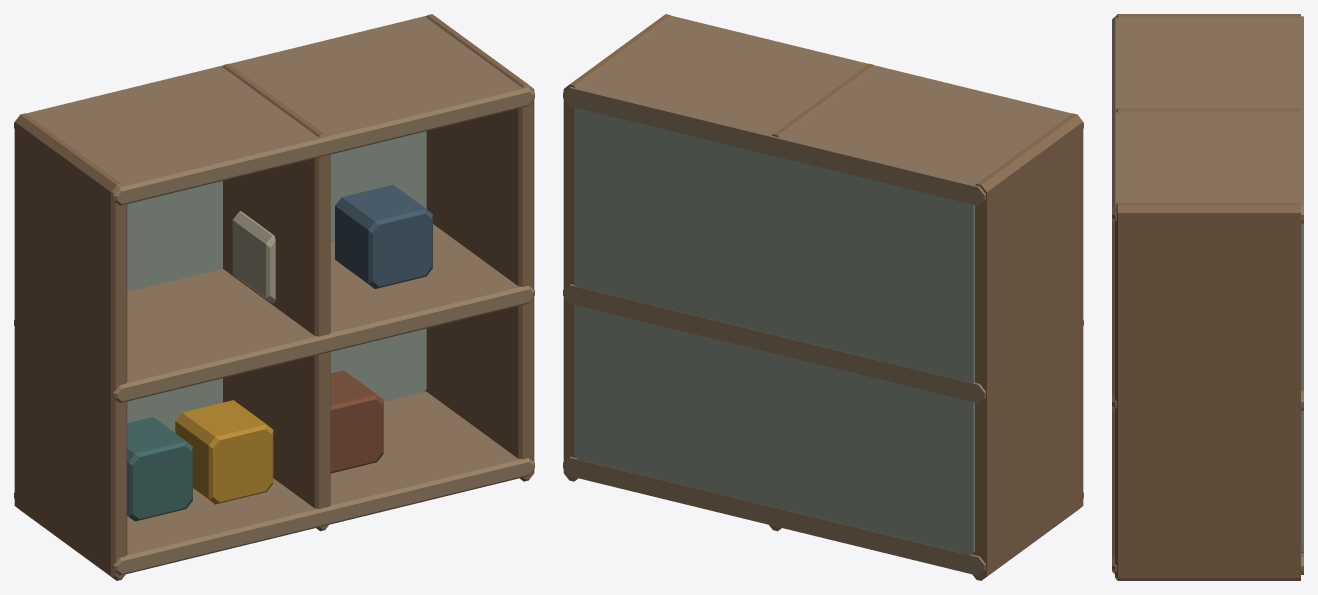
The model's file is H-02_toy_cubbies.glb.
3 views of the same model, side by side, from view 1: azimuth 30°, elevation 25°; view 2: azimuth 150°, elevation 25°; view 3: azimuth 270°, elevation 25° (orthographic). The views are drawn at different scales.
Parts seen in each view (by area): view 1: H-02_toy_cubbies; view 2: H-02_toy_cubbies; view 3: H-02_toy_cubbies.
Boxes of the visible parts, box(x1,y1,x2,y2) form: H-02_toy_cubbies: box(14, 14, 534, 580); H-02_toy_cubbies: box(563, 14, 1083, 580); H-02_toy_cubbies: box(1112, 14, 1303, 580).
Bounding box in the file's own units: 0.765 × 0.684 × 0.316.
